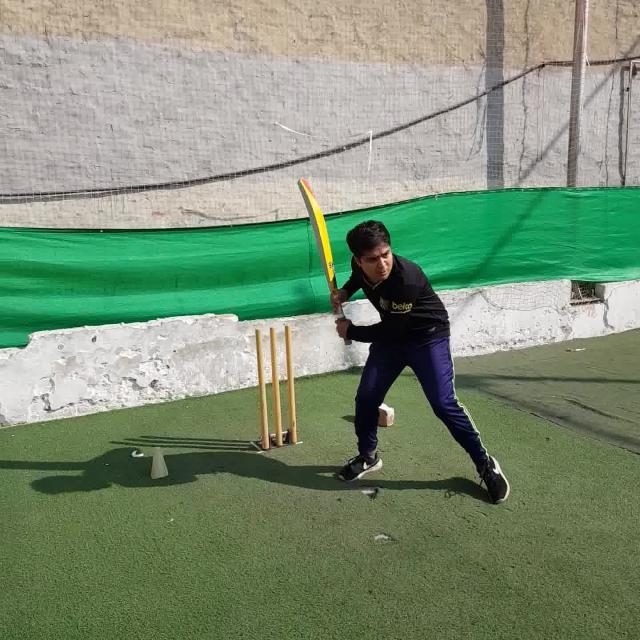bat: (296, 178, 351, 338)
